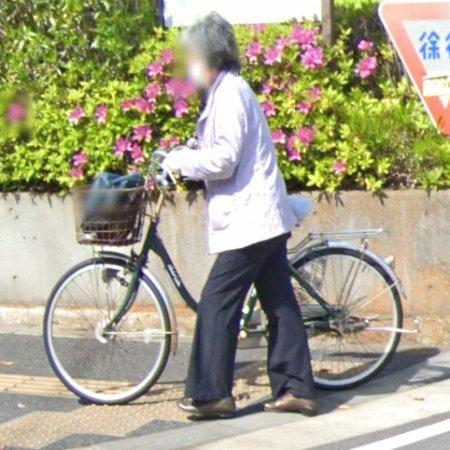bicycles: (43, 152, 200, 405), (289, 230, 409, 390), (73, 174, 145, 246), (240, 288, 268, 336)
